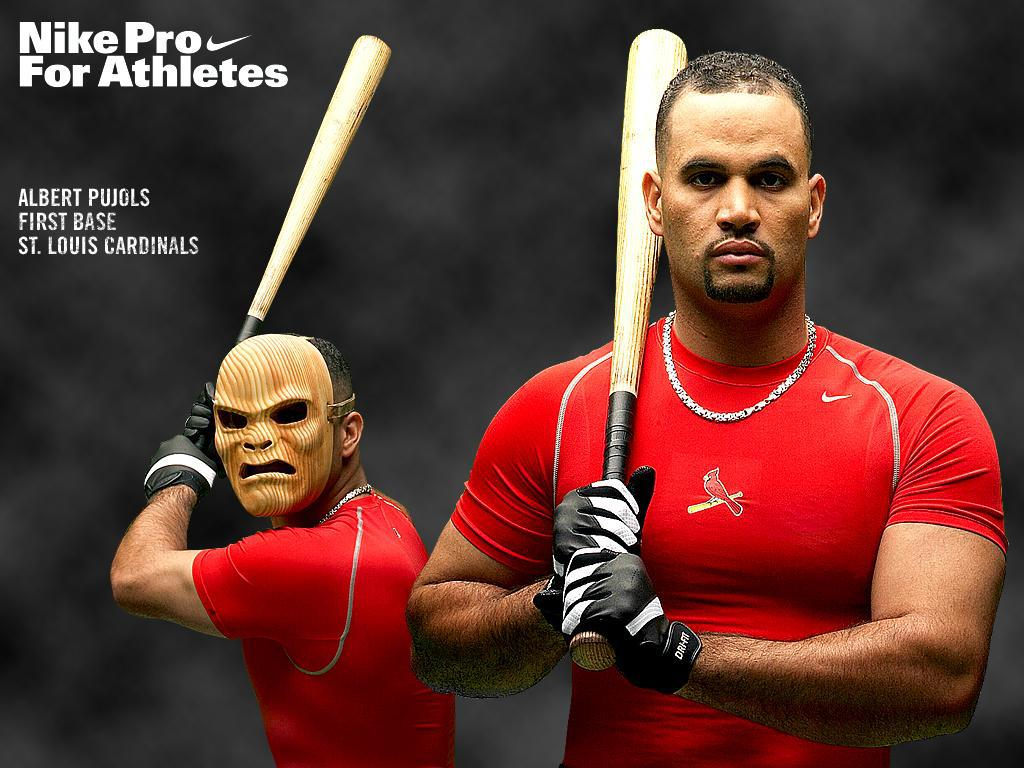face: (659, 89, 805, 309)
